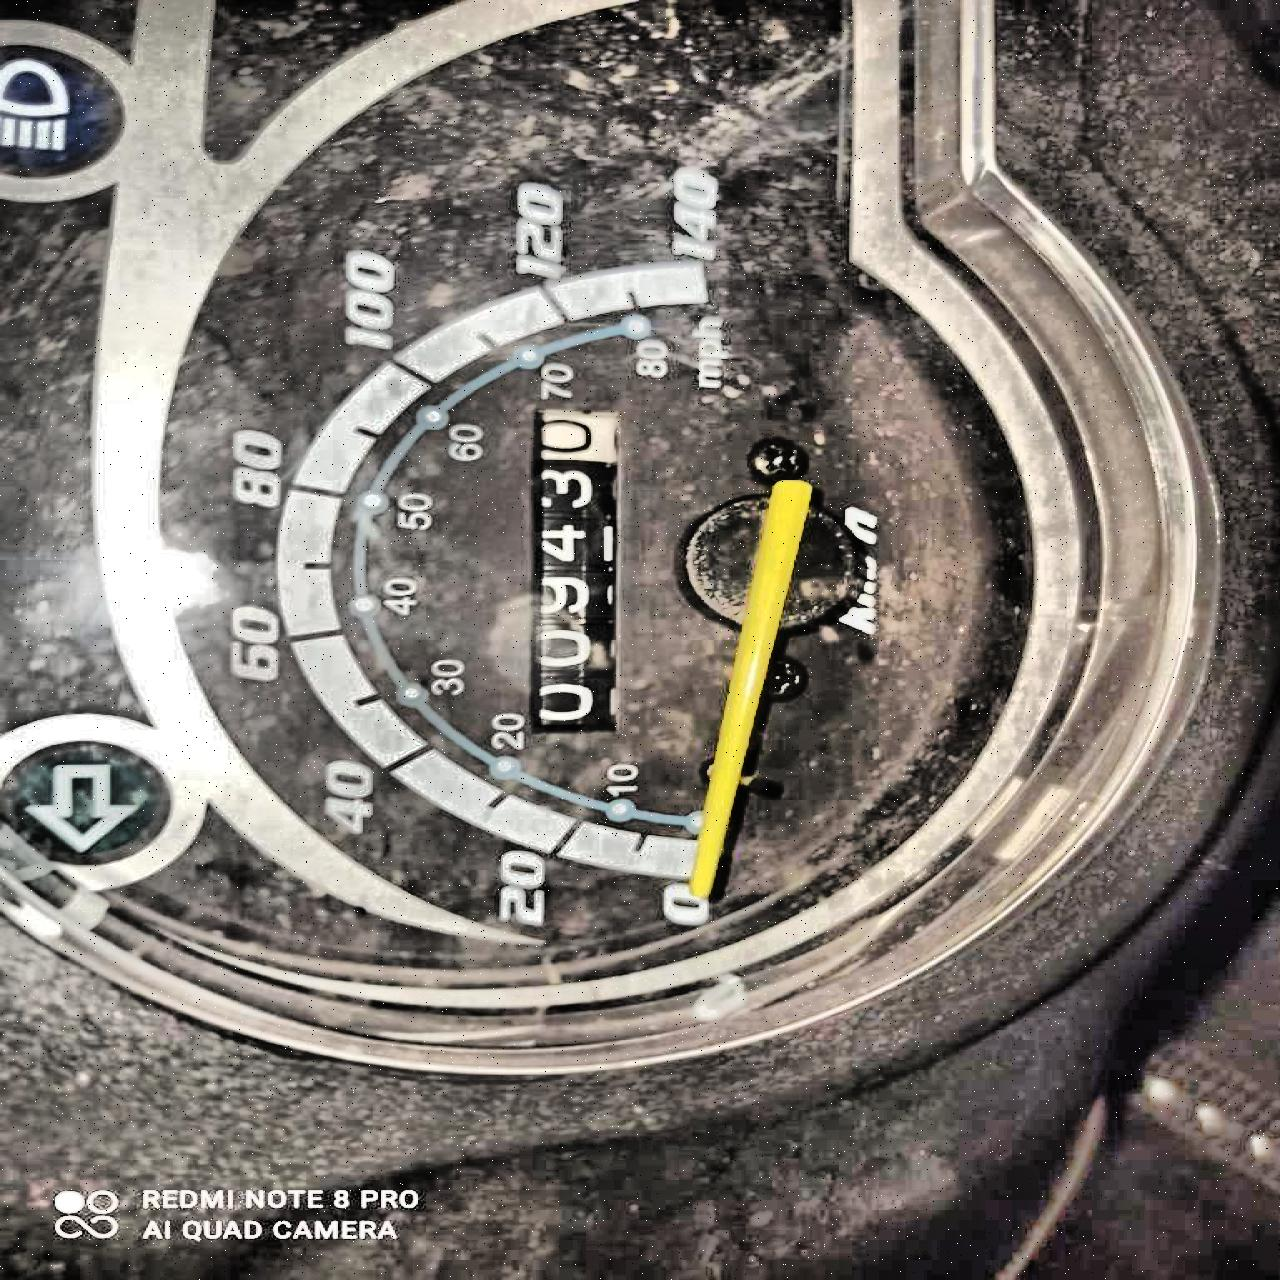0: (533, 678, 594, 722), (533, 625, 591, 670), (535, 416, 594, 455)
3: (533, 464, 599, 511)
4: (533, 519, 590, 565)
9: (535, 573, 594, 615)
odometer: (516, 403, 626, 735)
